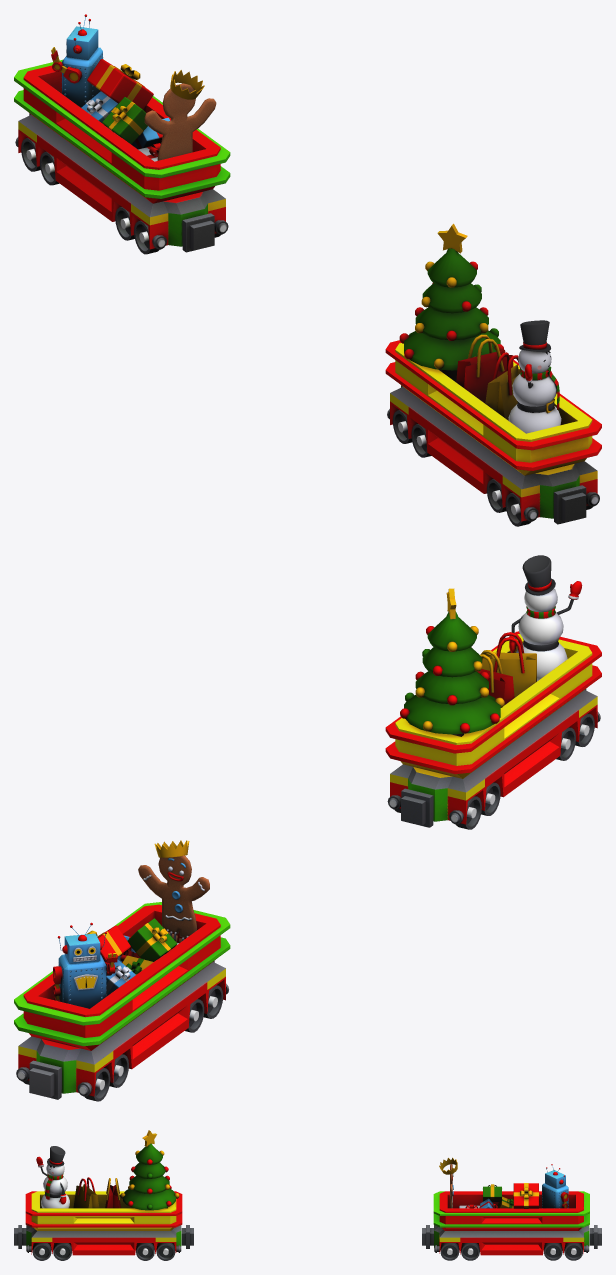
Rendered from train_platform.fbx.
The picture shows the model from 3 angles, top to bottom: view 1: azimuth 30°, elevation 25°; view 2: azimuth 150°, elevation 25°; view 3: azimuth 270°, elevation 25°; orthographic projection. The views are drawn at different scales.
Parts seen in each view (by area): view 1: train_platform_frame_001, train_platform_frame; view 2: train_platform_frame_001, train_platform_frame; view 3: train_platform_frame_001, train_platform_frame.
Boxes of the visible parts, x1,y1,x2,y2 form: train_platform_frame_001: (385,223,601,526); train_platform_frame: (14,14,230,254); train_platform_frame_001: (385,555,601,829); train_platform_frame: (14,840,230,1101); train_platform_frame_001: (14,1130,193,1260); train_platform_frame: (422,1157,601,1260).
Size of the model in its own units: 121 by 274 by 1210.
